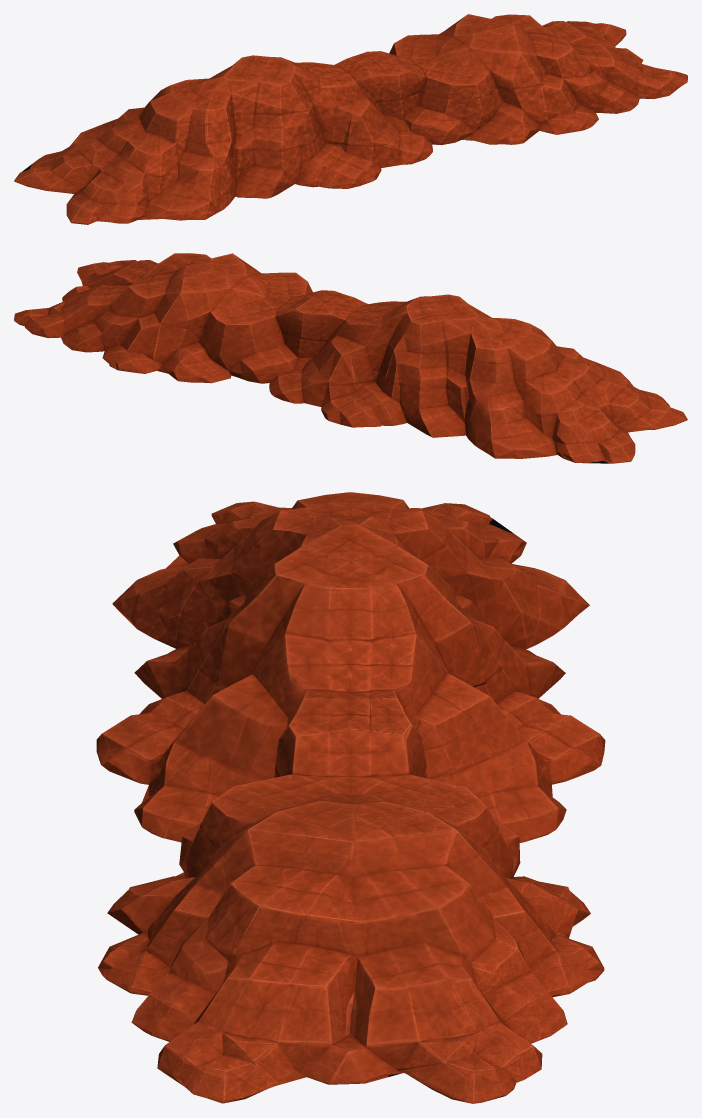
Rendered from desert_ridge_4.glb.
3 views of the same model, one above another, from view 1: azimuth 30°, elevation 25°; view 2: azimuth 150°, elevation 25°; view 3: azimuth 270°, elevation 25° (orthographic). The views are drawn at different scales.
Parts seen in each view (by area): view 1: output_unwrapped; view 2: output_unwrapped; view 3: output_unwrapped.
Boxes of the visible parts, x1,y1,x2,y2 form: output_unwrapped: (14,14,687,224); output_unwrapped: (14,253,687,463); output_unwrapped: (96,492,605,1103).
Size of the model in its own units: 1.9 by 0.2358 by 0.6822.
Materials: 1 (1 with a texture image).
